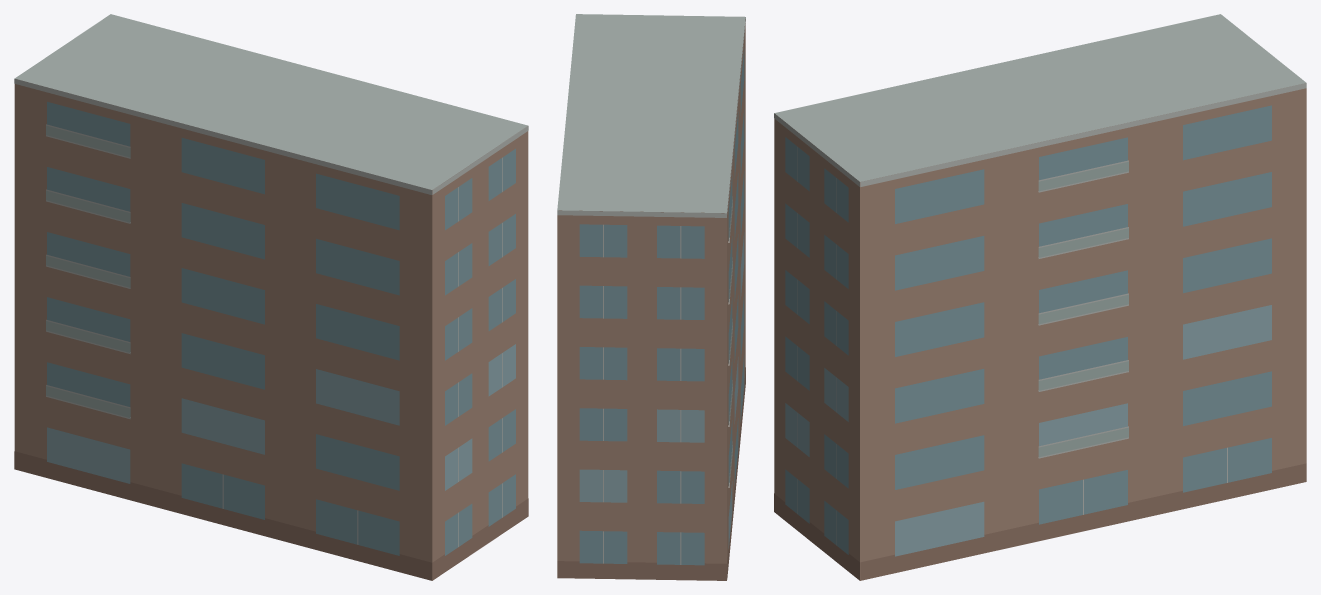
Rendered from survey-upis-32953793.glb.
3 views of the same model, side by side, from view 1: azimuth 30°, elevation 25°; view 2: azimuth 150°, elevation 25°; view 3: azimuth 270°, elevation 25° (orthographic). The views are drawn at different scales.
Parts seen in each view (by area): view 1: survey-upis-32953793.tmp; view 2: survey-upis-32953793.tmp; view 3: survey-upis-32953793.tmp.
Boxes of the visible parts, x1,y1,x2,y2 form: survey-upis-32953793.tmp: [14, 14, 528, 580]; survey-upis-32953793.tmp: [557, 14, 745, 580]; survey-upis-32953793.tmp: [774, 14, 1306, 580].
Size of the model in its own units: 16.72 by 18.5 by 22.39.
